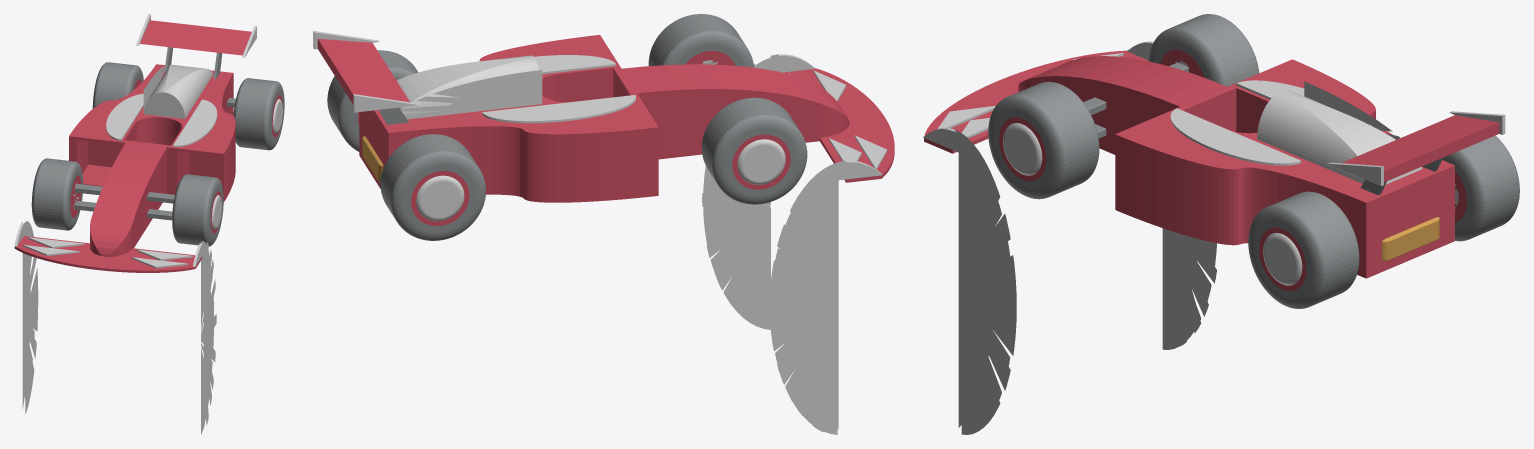
Rendered from FORMULA ONE CAR.glb.
3 renders of one model, left to right at view 1: azimuth 30°, elevation 25°; view 2: azimuth 150°, elevation 25°; view 3: azimuth 270°, elevation 25°, orthographic. The views are drawn at different scales.
Parts seen in each view (by area): view 1: Mesh_Mesh_head_geo.001_lambert2SG.001; view 2: Mesh_Mesh_head_geo.001_lambert2SG.001; view 3: Mesh_Mesh_head_geo.001_lambert2SG.001.
Part boxes in pixels (box(x1,y1,x2,y2)): Mesh_Mesh_head_geo.001_lambert2SG.001: box(14, 14, 284, 434); Mesh_Mesh_head_geo.001_lambert2SG.001: box(313, 14, 894, 434); Mesh_Mesh_head_geo.001_lambert2SG.001: box(923, 14, 1519, 434).
Size of the model in its own units: 143 by 109 by 143.
